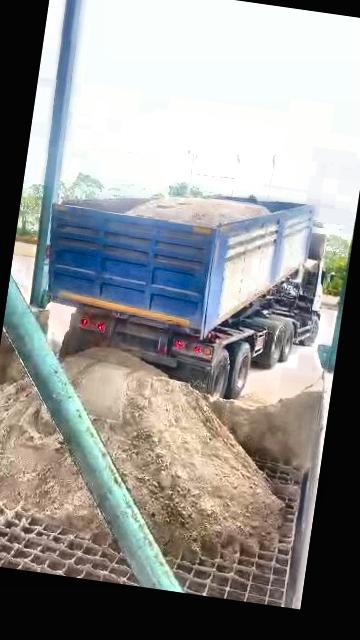sand: (65, 349, 281, 558), (0, 379, 108, 539), (211, 382, 322, 472), (127, 197, 266, 228)
